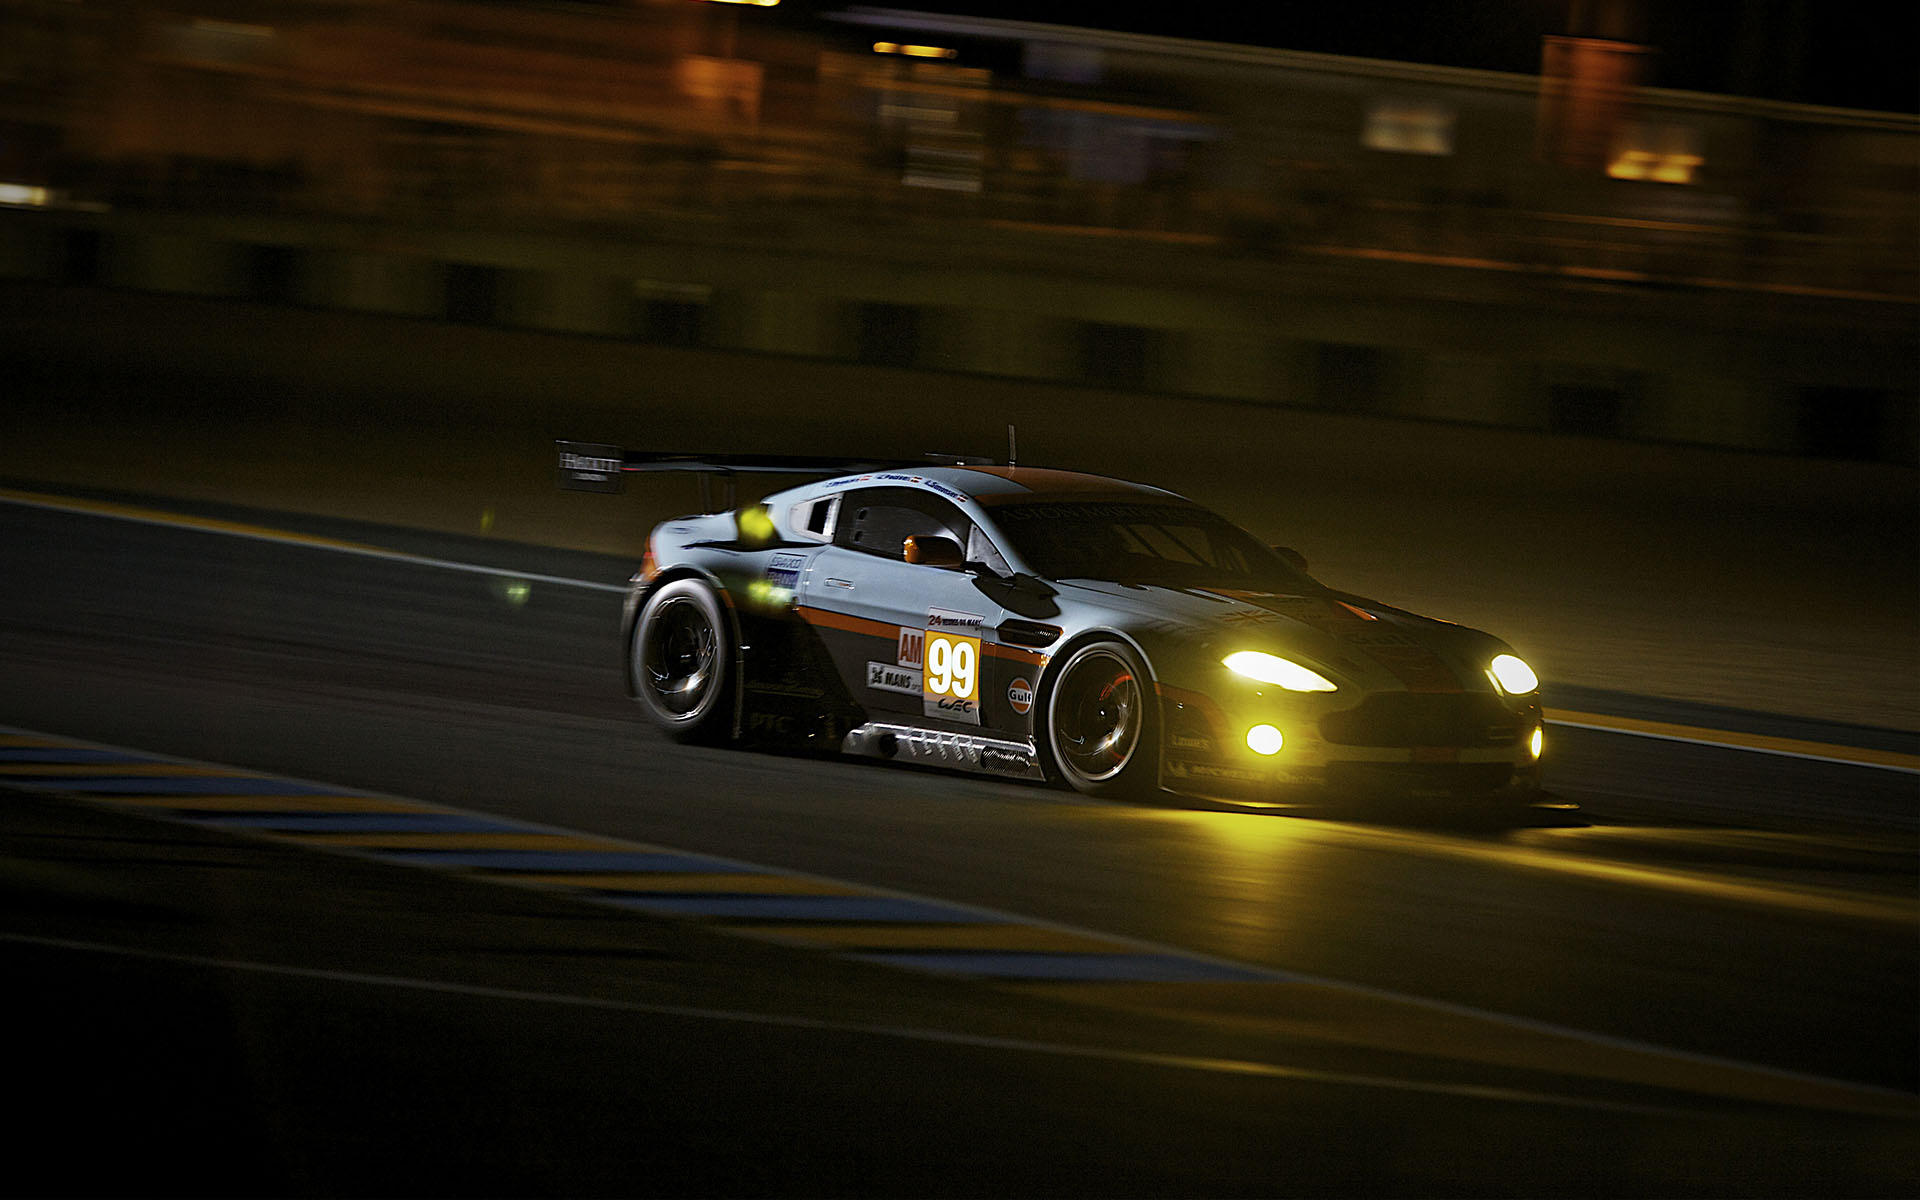car: (536, 377, 1591, 861)
